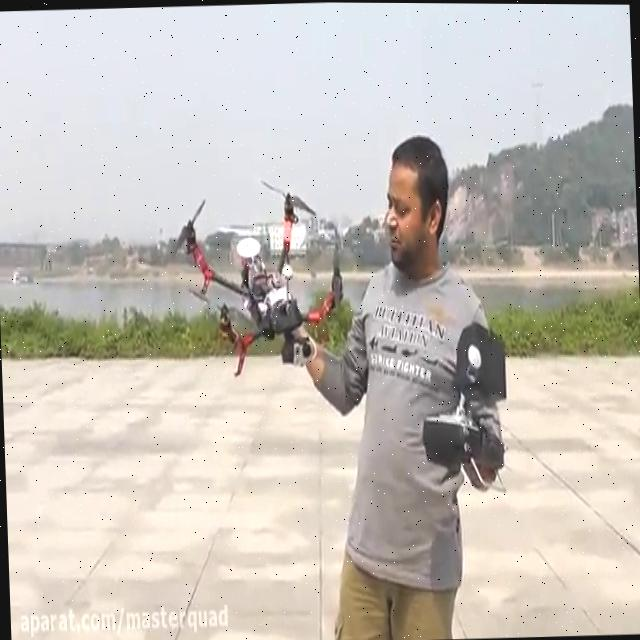drone: (165, 170, 351, 379)
